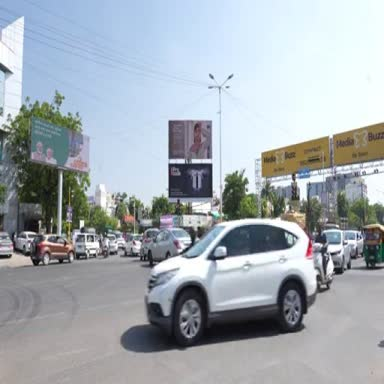Car: (145, 219, 317, 346), (147, 227, 191, 266), (30, 234, 74, 266), (324, 230, 351, 274), (75, 234, 99, 259), (15, 232, 37, 256), (141, 229, 158, 260), (345, 231, 363, 259), (124, 234, 142, 256), (0, 232, 14, 258), (108, 234, 118, 254), (114, 233, 125, 249)
